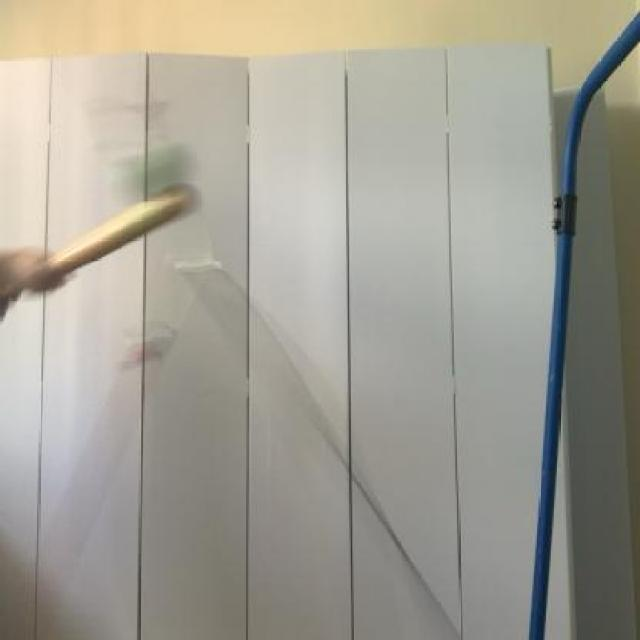baseball: (108, 137, 204, 226)
